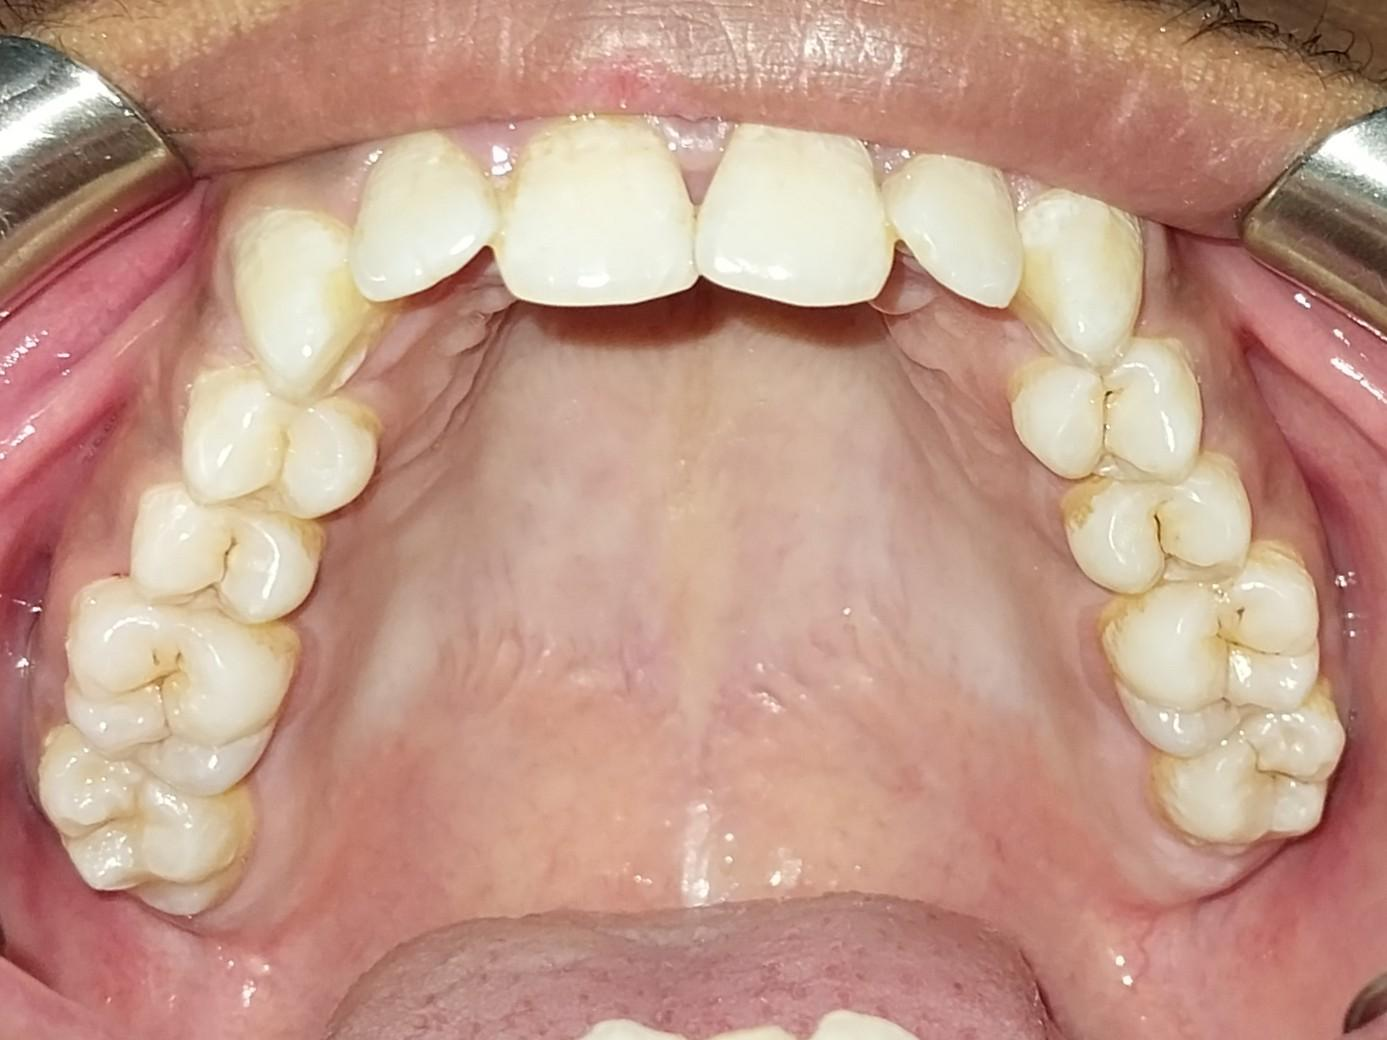D: (68, 580, 297, 794), (1097, 550, 1321, 751), (1013, 334, 1206, 491), (1059, 454, 1257, 599), (134, 484, 323, 628)
